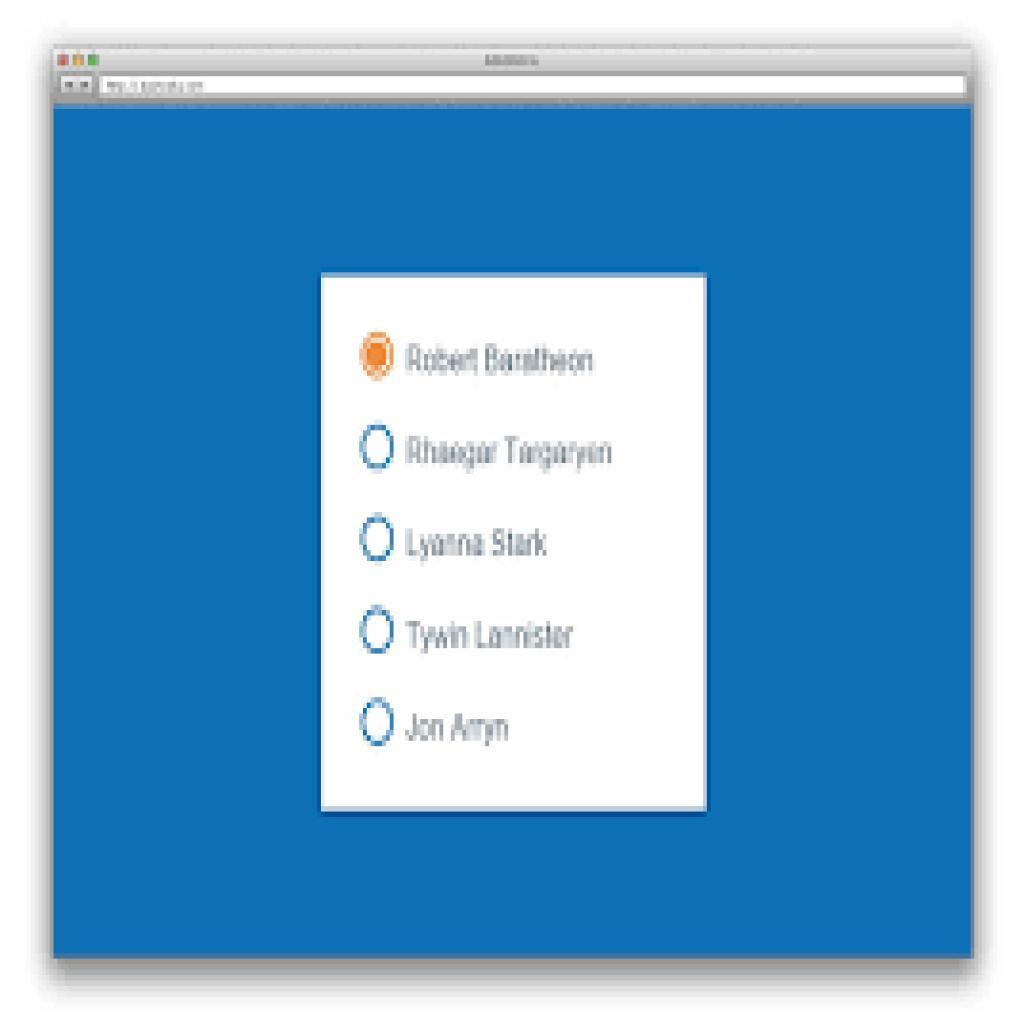radio: (358, 601, 401, 658), (358, 328, 399, 384), (356, 511, 399, 564), (359, 421, 399, 472), (360, 698, 399, 750)
